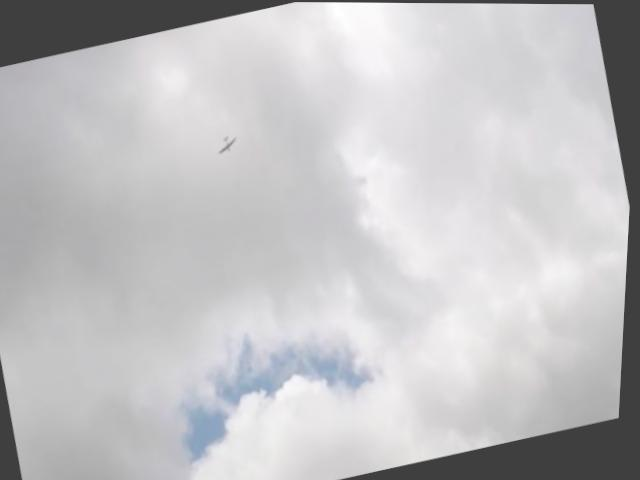iha: (215, 131, 245, 159)
